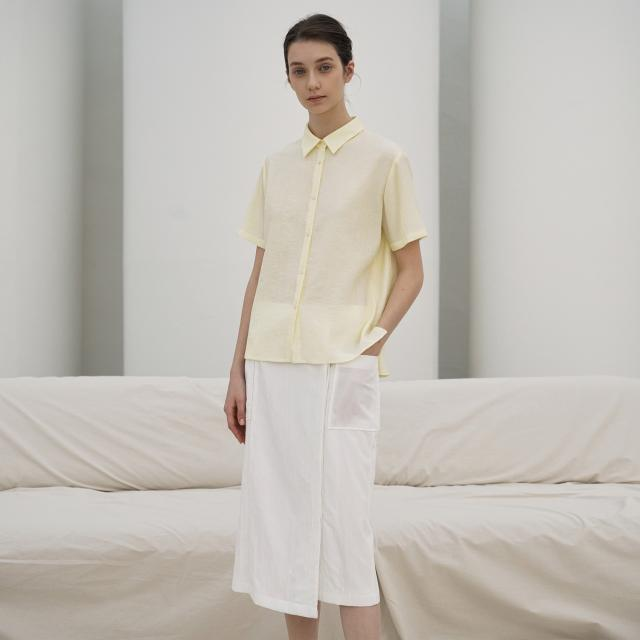dress: (255, 127, 413, 360)
